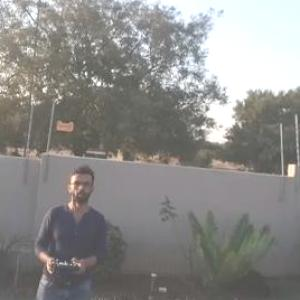follow: (27, 162, 110, 299)
